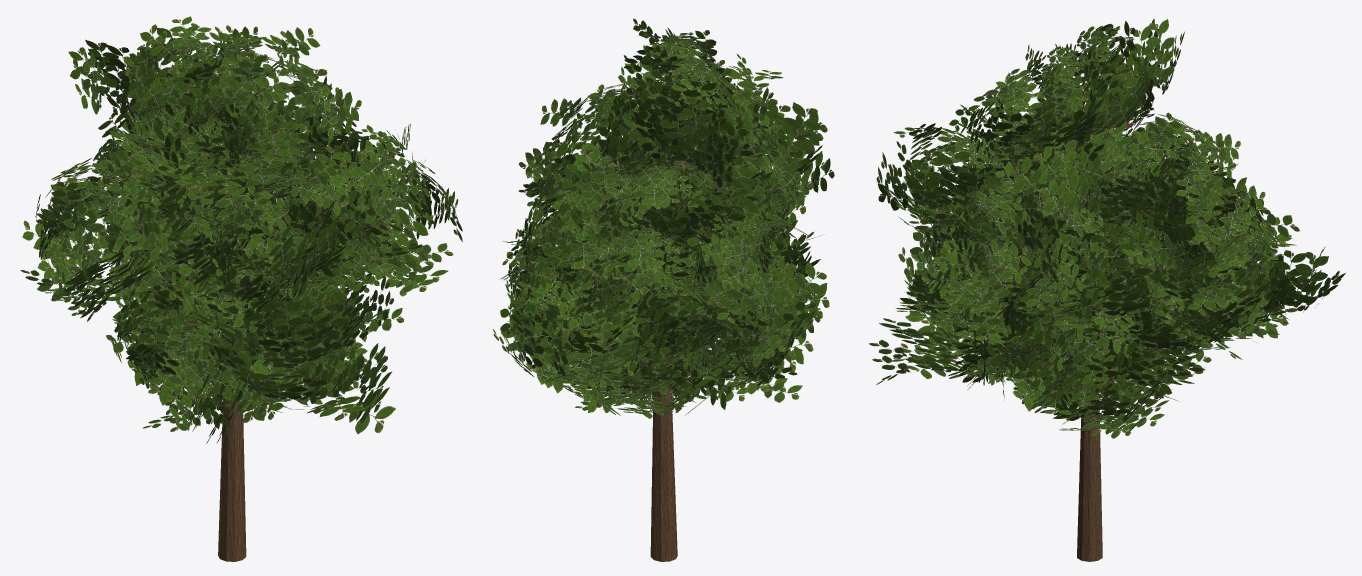
File: tree_02.fbx
3 renders of one model, left to right at view 1: azimuth 30°, elevation 25°; view 2: azimuth 150°, elevation 25°; view 3: azimuth 270°, elevation 25°, orthographic. The views are drawn at different scales.
Visible parts, largest first — view 1: tree_02; view 2: tree_02; view 3: tree_02.
Boxes of the visible parts, x1=… form: tree_02: x1=20, y1=16, x2=462, y2=561; tree_02: x1=493, y1=18, x2=834, y2=561; tree_02: x1=869, y1=18, x2=1345, y2=561.
Size of the model in its own units: 14.64 by 20 by 17.1.
Materials: 2 (2 with a texture image).
